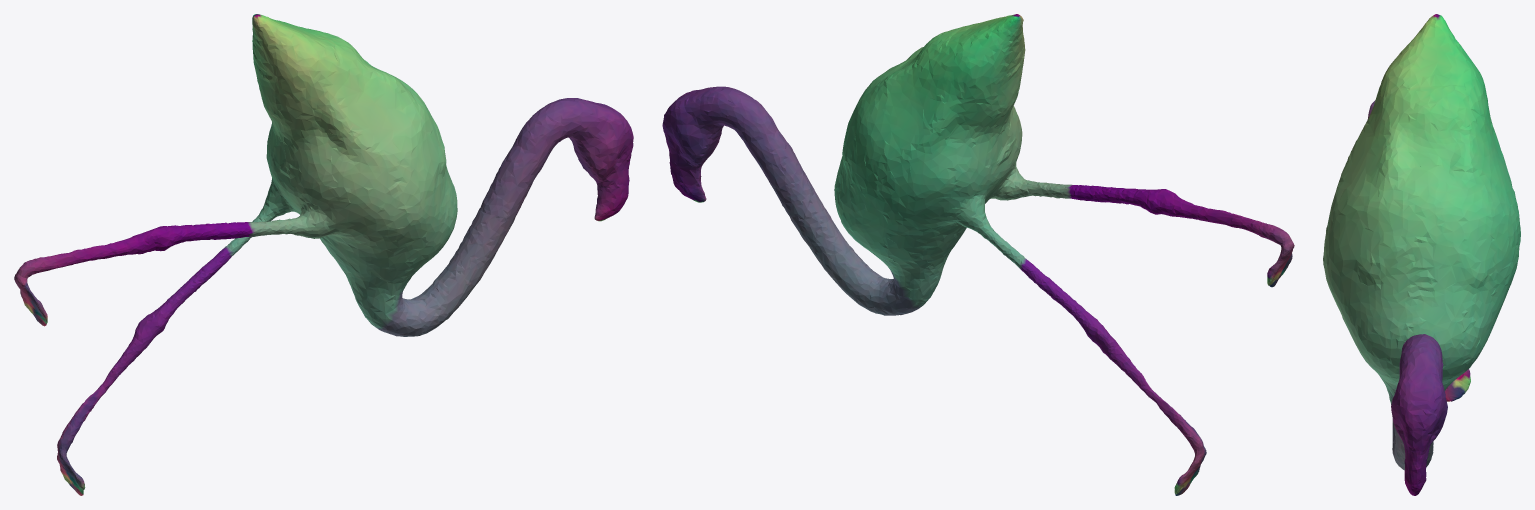
Rendered from flamingo-20.off.obj.
The picture shows the model from 3 angles, left to right: view 1: azimuth 30°, elevation 25°; view 2: azimuth 150°, elevation 25°; view 3: azimuth 270°, elevation 25°; orthographic projection. The views are drawn at different scales.
Bounding box in the file's own units: 1.59 × 1.07 × 0.4029.
